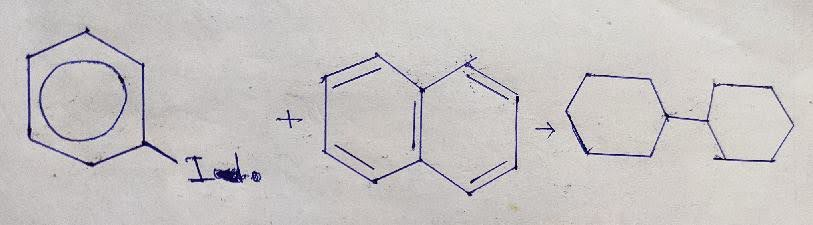Biphenyl(C12H10): (563, 70, 797, 166)
Iodobenzene(C6H5I): (22, 26, 215, 187)
Naphthalene(C10H8): (318, 51, 525, 198)
